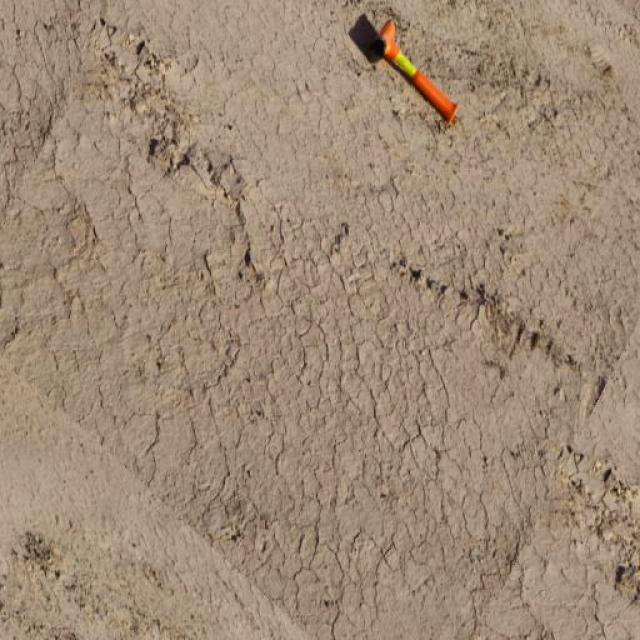mallet: (350, 12, 461, 128)
